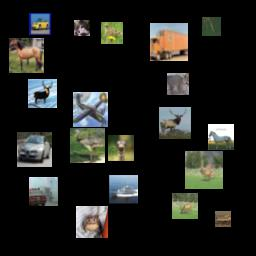airplane: (73, 92, 108, 127), (215, 211, 231, 227)
automobile: (17, 132, 52, 167), (29, 177, 58, 206), (29, 13, 51, 35)
bird: (70, 128, 105, 163), (108, 135, 134, 161), (101, 22, 123, 44)
cat: (167, 73, 189, 95), (74, 20, 90, 36)
deer: (185, 151, 223, 189), (159, 107, 191, 139), (28, 79, 57, 108), (172, 193, 198, 219), (202, 17, 221, 36)
frog: (76, 206, 108, 238)
ship: (109, 175, 138, 204)
truck: (150, 23, 188, 61)
